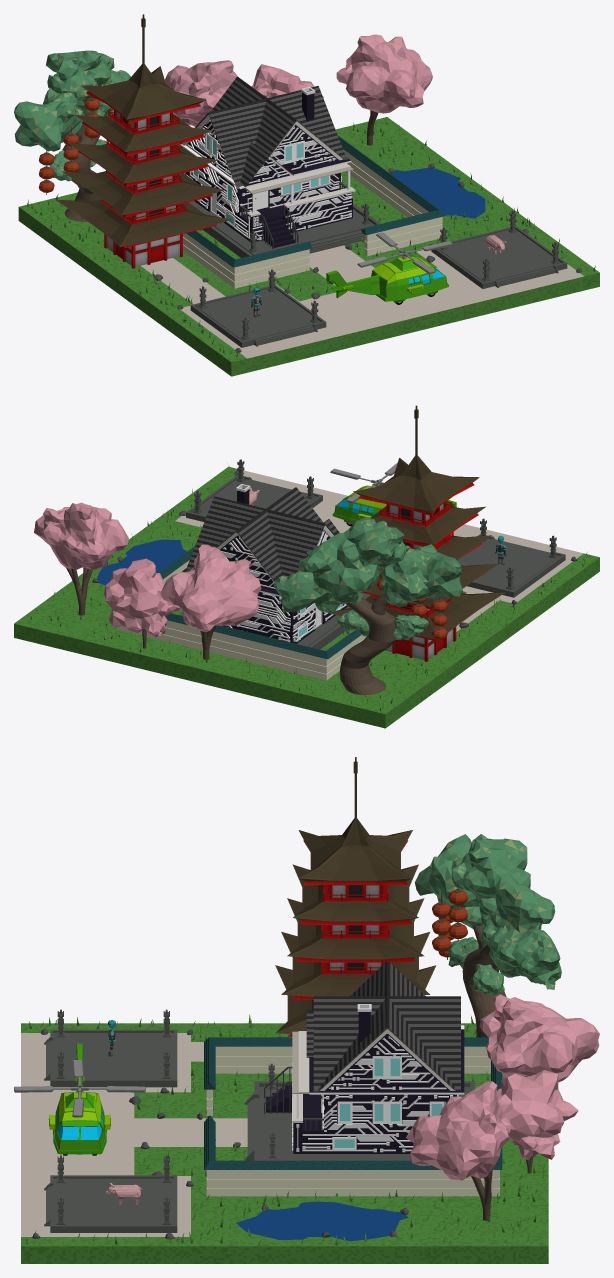
The picture shows the model from 3 angles, top to bottom: view 1: azimuth 30°, elevation 25°; view 2: azimuth 150°, elevation 25°; view 3: azimuth 270°, elevation 25°; orthographic projection. The views are drawn at different scales.
Parts seen in each view (by area): view 1: Cube.005, Cube.918, VEHICLES_HELICOPTER; view 2: Cube.005, Cube.918, VEHICLES_HELICOPTER; view 3: Cube.005, Cube.918, VEHICLES_HELICOPTER.
Part boxes in pixels (x1,y1,x2,y2): Cube.005: [14, 14, 599, 376]; Cube.918: [179, 76, 355, 248]; VEHICLES_HELICOPTER: [326, 232, 452, 304]; Cube.005: [14, 405, 599, 728]; Cube.918: [182, 484, 347, 643]; VEHICLES_HELICOPTER: [330, 463, 456, 526]; Cube.005: [21, 757, 599, 1263]; Cube.918: [264, 961, 464, 1153]; VEHICLES_HELICOPTER: [14, 1043, 145, 1155].
Size of the model in its own units: 4528 by 2791 by 4442.
44 materials, 5 textured.
